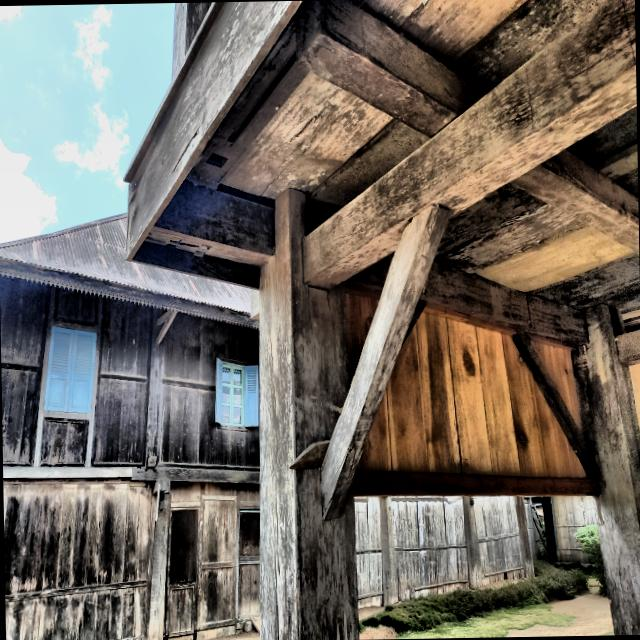column: (259, 189, 358, 640), (574, 304, 640, 635), (147, 479, 170, 640), (378, 496, 398, 605), (462, 495, 483, 588), (514, 496, 534, 577), (541, 496, 557, 563)
door: (196, 494, 237, 630)
roof: (0, 213, 259, 329)
wall: (358, 308, 584, 476), (0, 275, 154, 465), (3, 480, 155, 640), (160, 315, 258, 468), (391, 495, 470, 602), (472, 496, 525, 586), (536, 344, 580, 425), (353, 496, 382, 607), (552, 496, 597, 563), (346, 291, 377, 374), (630, 363, 640, 434)
window: (43, 325, 97, 414), (215, 357, 258, 427), (169, 508, 197, 582), (239, 507, 260, 559)
